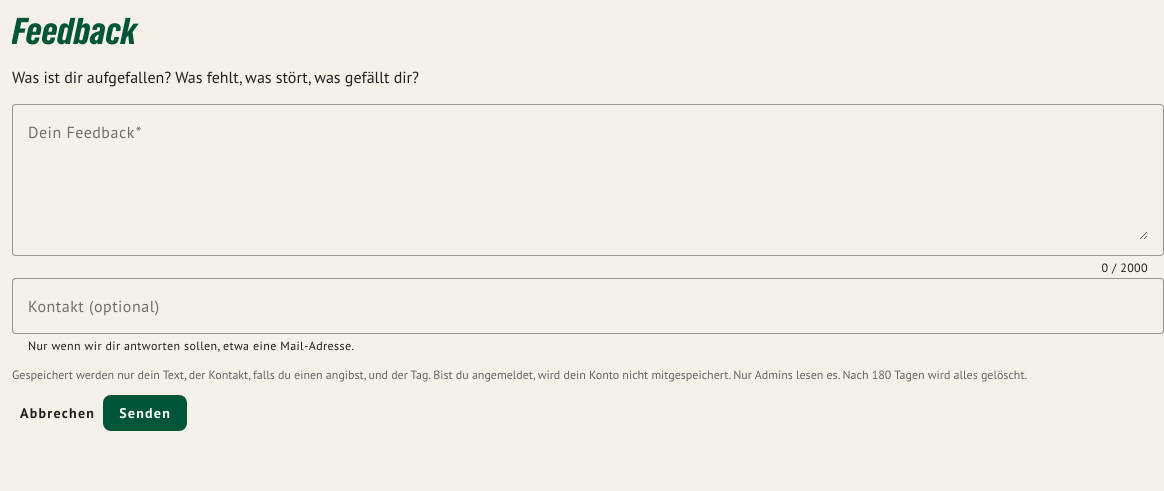
Test: FeedbackDialogComponent › nennt das Limit, wenn zu viel in kurzer Zeit kommt
Type "Noch eins" into the text box named "text".
click(588, 180); type("Noch eins")  # box top-left (28, 120), bottom-right (1148, 240)
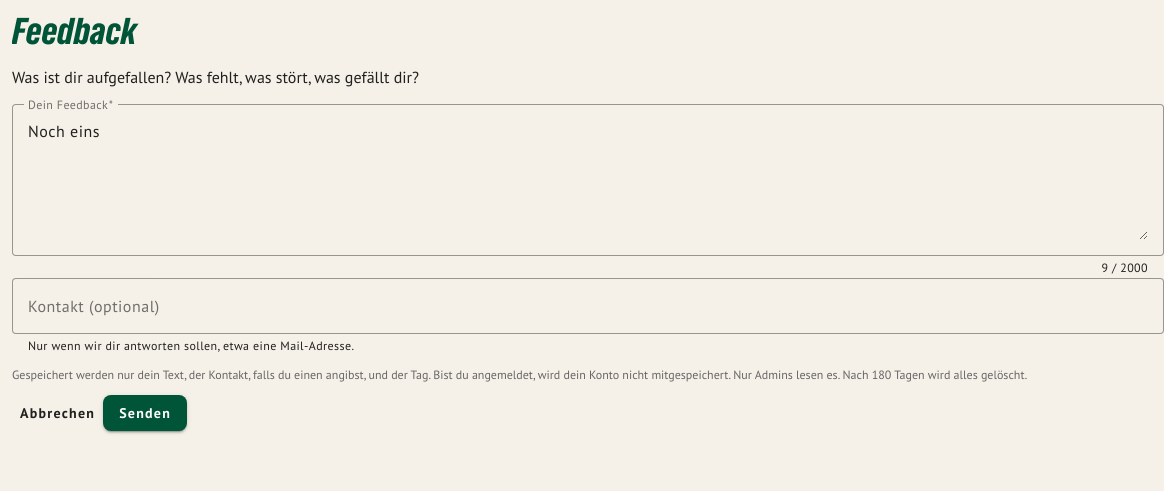
Click the button with test id "feedback-senden".
click(145, 413)  # box top-left (103, 395), bottom-right (187, 431)
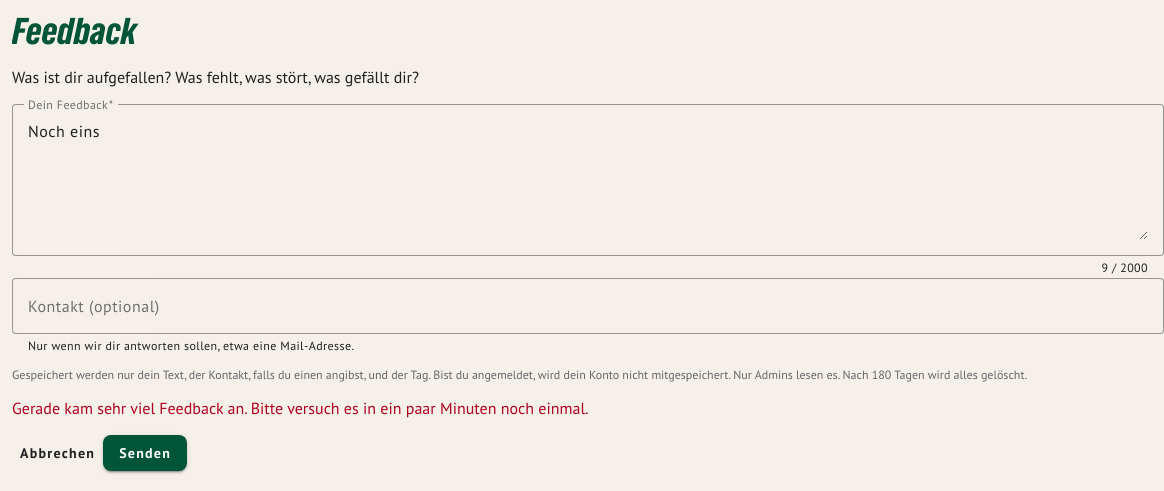
Check: the text "ein paar Minuten" is shown, box top-left (12, 400), bottom-right (588, 418)
